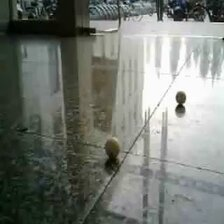w: (104, 137, 122, 158), (175, 90, 187, 104)
